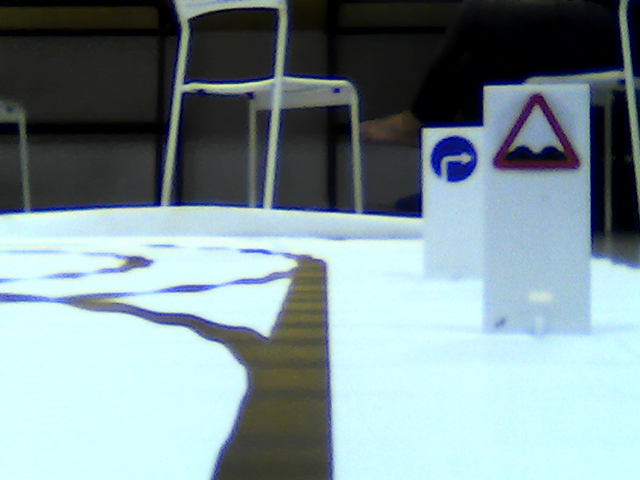Nerov: (490, 91, 583, 174)
Right: (431, 134, 477, 178)
